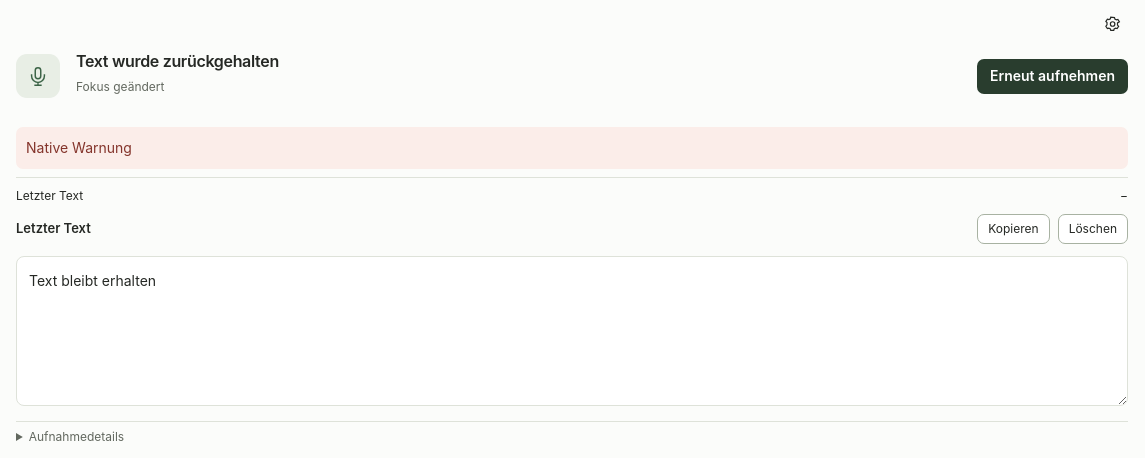
Test case: native outcome and error remain visible and a failed command supplies a recoverable error
The width and height of the screenshot is (1145, 458).
Expected: the message "Native Warnung" is shown, [16,127,1128,169]
Expected: the message "Text wurde zurückgehalten" is shown, [76,51,279,71]
Click the button "Kopieren": {"x": 1013, "y": 229} [977,214,1050,244]
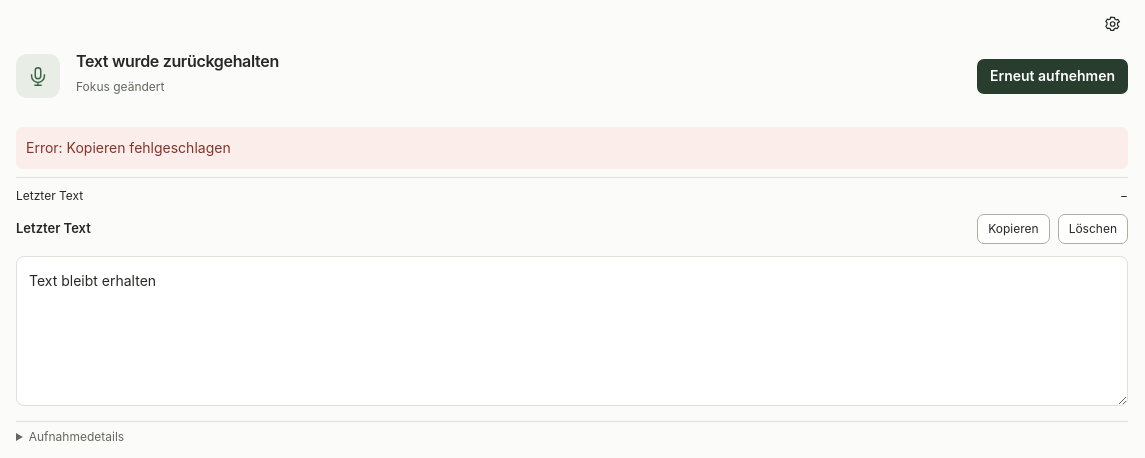
Expected: the message "Error: Kopieren fehlgeschlagen" is shown, [16,127,1128,169]
Click the button "Erneut aufnehmen": {"x": 1052, "y": 76} [977,59,1128,94]
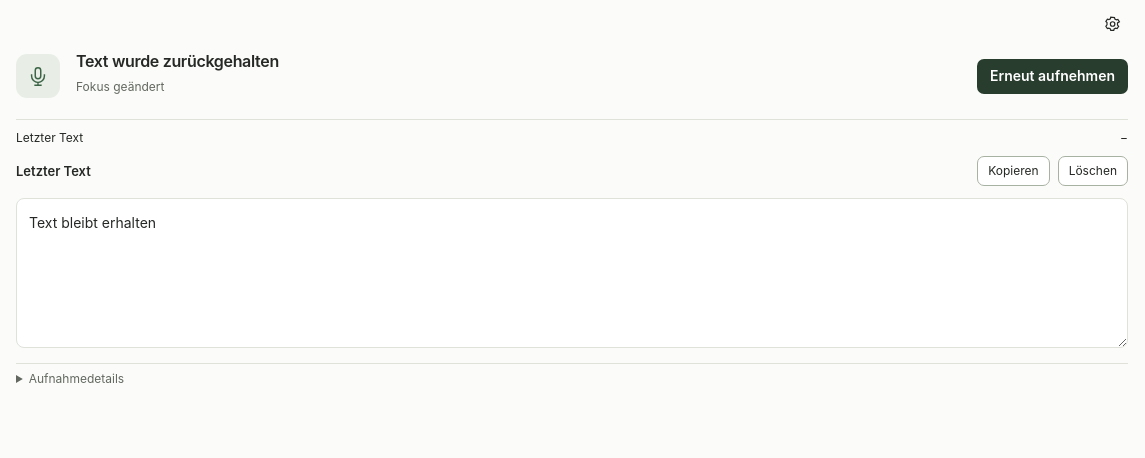
Expected: the message "Error: Kopieren fehlgeschlagen" is gone
